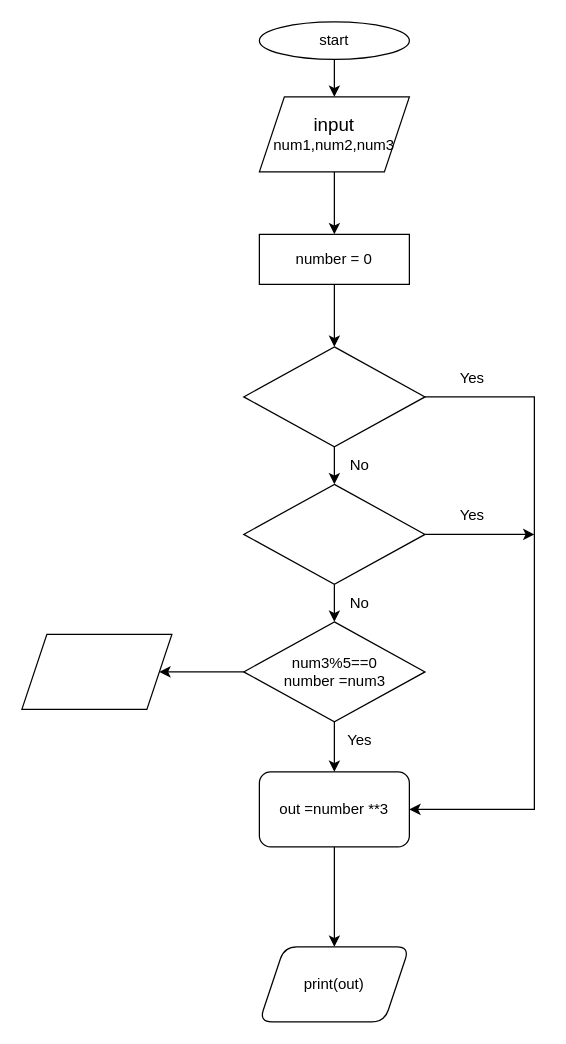
The diagram is 566 pixels wide and 1044 high, and some of its shapes have lost their labels. The shapes that lost their labels are listed below. From the top down, each one's box as (x1, y1, x2, y2) in pixels, then its label:
(242, 346, 425, 447): num1%5==0 number =num1
(242, 483, 425, 584): num2%5==0 number =num2
(21, 633, 172, 709): output non of them not Multiple 5
